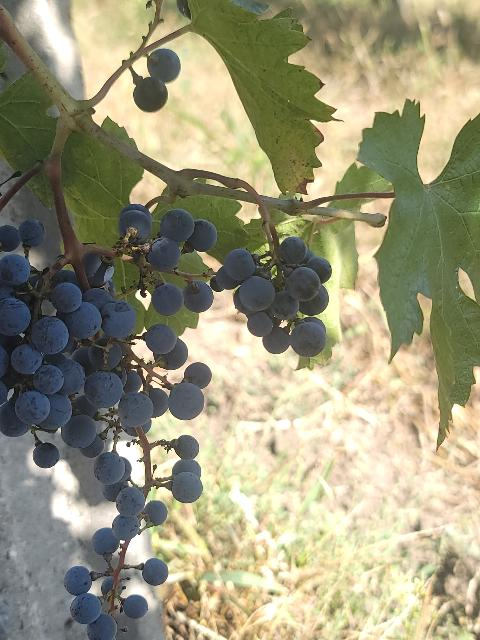grapes: (0, 205, 216, 640), (215, 236, 331, 358)
